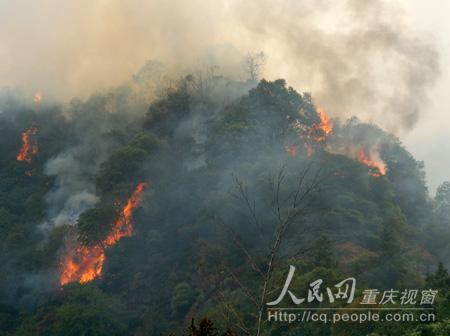fire: (60, 180, 145, 285), (287, 105, 389, 176), (9, 125, 42, 168)
